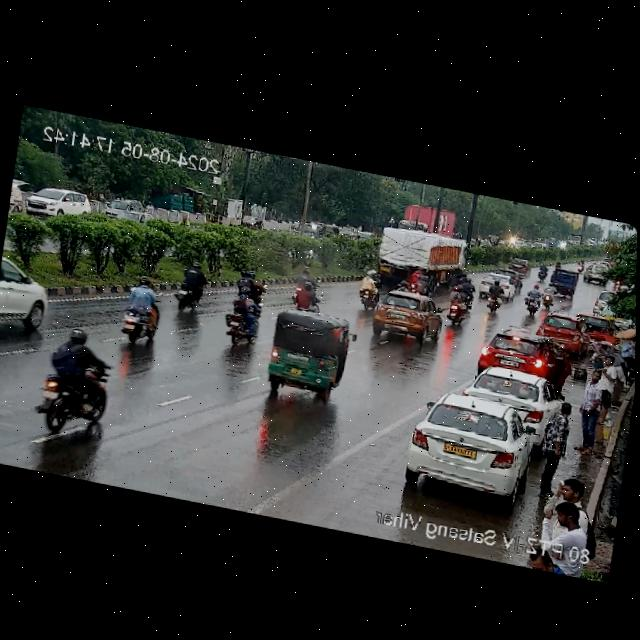car: (402, 384, 543, 505), (255, 302, 352, 409), (468, 362, 560, 424), (0, 254, 56, 348), (476, 326, 558, 382), (372, 285, 444, 348), (28, 183, 95, 226), (533, 308, 590, 352), (576, 310, 619, 345), (98, 191, 141, 225), (476, 268, 518, 299), (588, 285, 628, 317), (287, 216, 328, 246), (547, 268, 579, 299), (113, 207, 153, 231), (580, 262, 610, 283), (506, 255, 533, 274)
motorcycle: (30, 329, 116, 447), (114, 273, 170, 348), (219, 291, 267, 352), (168, 256, 214, 314), (285, 268, 329, 315), (229, 266, 273, 307), (353, 262, 380, 313), (443, 283, 473, 328), (482, 277, 509, 318), (521, 285, 545, 317)
person: (535, 471, 598, 552), (533, 397, 576, 494), (570, 364, 609, 460)
truck: (374, 224, 467, 285), (397, 200, 457, 241)
